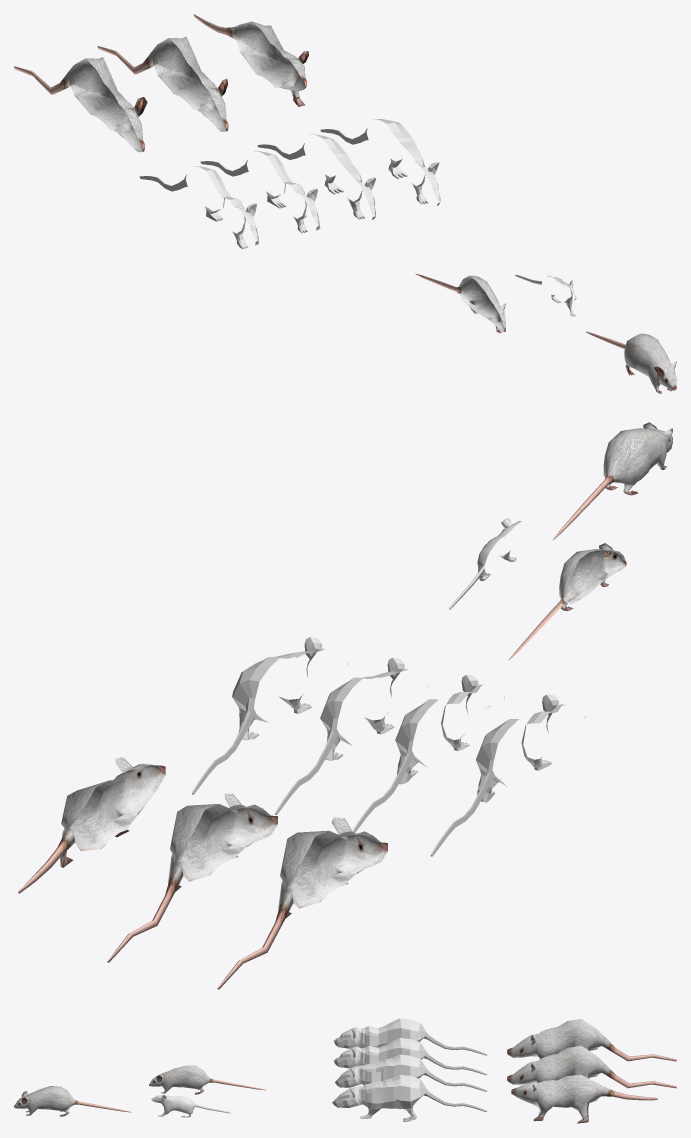
Rendered from RAT_FinalModel_01.glb.
The picture shows the model from 3 angles, top to bottom: view 1: azimuth 30°, elevation 25°; view 2: azimuth 150°, elevation 25°; view 3: azimuth 270°, elevation 25°; orthographic projection. The views are drawn at different scales.
Parts seen in each view (by area): view 1: First_Correction2, First_Correction1, First, Small_Up_NONMIRRORED, Small_Up_MIRRORED, Second_04, Second_03, Second_02, Second_01; view 2: First_Correction2, First_Correction1, First, Small_Up_NONMIRRORED, Small_Up_MIRRORED, Second_04, Second_01, Second_02, Second_03, Small_Sat; view 3: First, Second_04, First_Correction2, First_Correction1, Second_01, Second_03, Second_02, Small_Up_NONMIRRORED, Small_Up_MIRRORED, Small_Sat.
Part boxes in pixels (x1=…): First_Correction2: x1=14, y1=57, x2=147, y2=152; First_Correction1: x1=97, y1=37, x2=228, y2=131; First: x1=193, y1=14, x2=308, y2=106; Small_Up_NONMIRRORED: x1=586, y1=331, x2=676, y2=393; Small_Up_MIRRORED: x1=415, y1=273, x2=505, y2=333; Second_04: x1=320, y1=119, x2=440, y2=205; Second_03: x1=257, y1=134, x2=376, y2=219; Second_02: x1=200, y1=151, x2=321, y2=233; Second_01: x1=139, y1=166, x2=258, y2=248; First_Correction2: x1=217, y1=817, x2=387, y2=989; First_Correction1: x1=107, y1=793, x2=277, y2=962; First: x1=18, y1=757, x2=165, y2=893; Small_Up_NONMIRRORED: x1=553, y1=422, x2=672, y2=540; Small_Up_MIRRORED: x1=508, y1=543, x2=626, y2=660; Second_04: x1=192, y1=637, x2=348, y2=794; Second_01: x1=430, y1=694, x2=585, y2=856; Second_02: x1=352, y1=675, x2=504, y2=832; Second_03: x1=275, y1=657, x2=428, y2=814; Small_Sat: x1=449, y1=518, x2=528, y2=609; First: x1=511, y1=1074, x2=657, y2=1123; Second_04: x1=332, y1=1075, x2=487, y2=1121; First_Correction2: x1=507, y1=1019, x2=676, y2=1061; First_Correction1: x1=507, y1=1045, x2=676, y2=1088; Second_01: x1=333, y1=1018, x2=487, y2=1055; Second_03: x1=334, y1=1054, x2=487, y2=1091; Second_02: x1=333, y1=1038, x2=487, y2=1075; Small_Up_NONMIRRORED: x1=14, y1=1086, x2=131, y2=1116; Small_Up_MIRRORED: x1=149, y1=1065, x2=266, y2=1094; Small_Sat: x1=151, y1=1095, x2=230, y2=1117.
Bounding box in the file's own units: 4.3 × 1.3 × 17.9.
3 materials, 3 textured.
